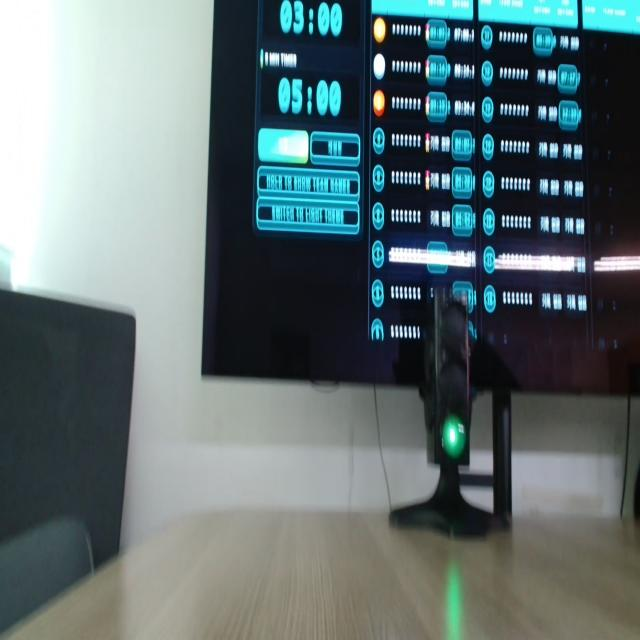green_light: (443, 415, 465, 459)
